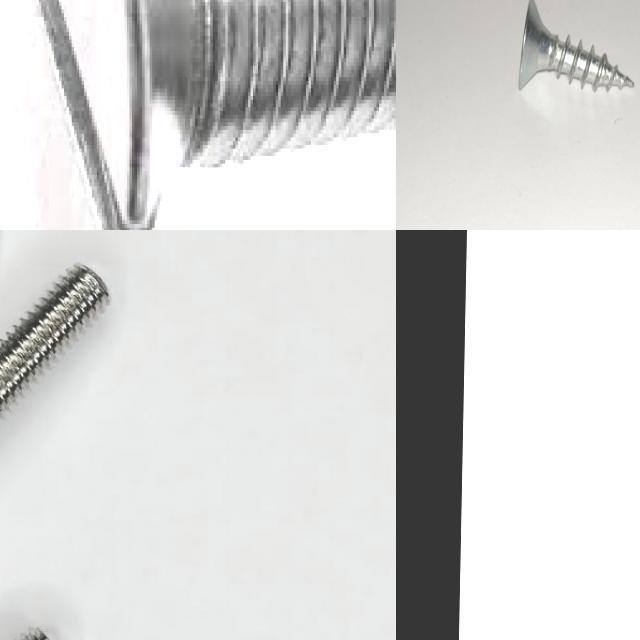Screw: (6, 0, 396, 230), (0, 265, 106, 411), (518, 0, 634, 91)
